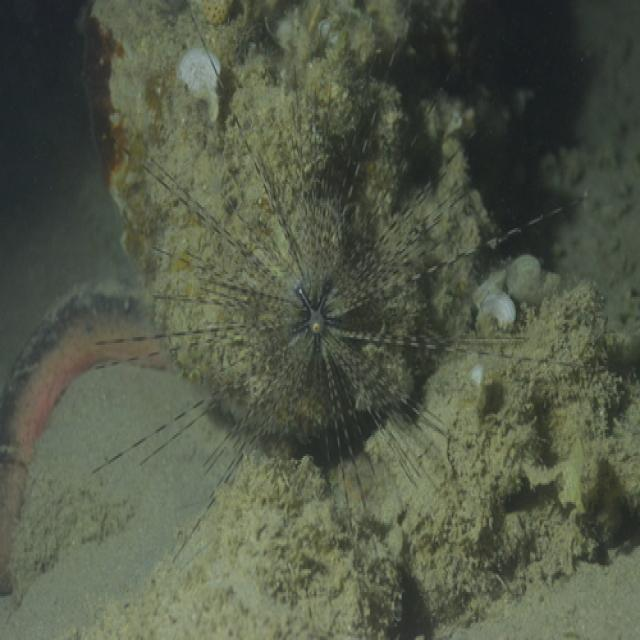Urchin: (96, 35, 575, 569)
